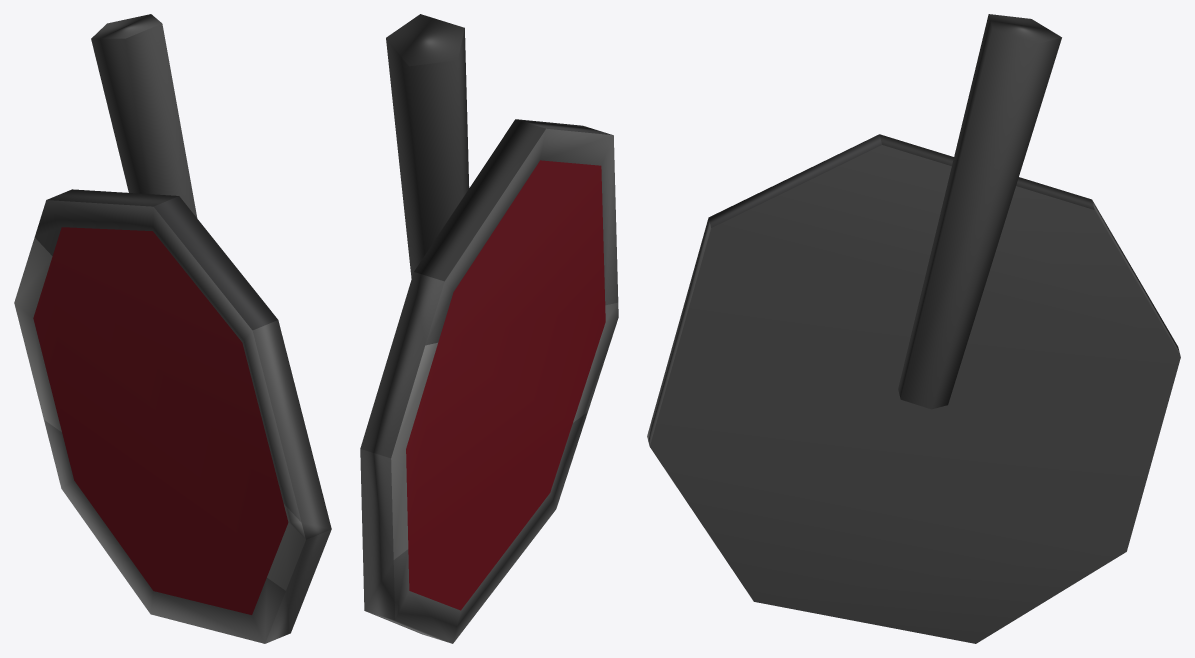
The model's file is trafficSign.fbx.
3 renders of one model, left to right at view 1: azimuth 30°, elevation 25°; view 2: azimuth 150°, elevation 25°; view 3: azimuth 270°, elevation 25°, orthographic. The views are drawn at different scales.
Parts seen in each view (by area): view 1: trafficSign:trafficSign; view 2: trafficSign:trafficSign; view 3: trafficSign:trafficSign.
Part boxes in pixels (<box>): trafficSign:trafficSign: <box>14,14,331,643</box>; trafficSign:trafficSign: <box>360,14,618,643</box>; trafficSign:trafficSign: <box>647,14,1180,643</box>.
Bounding box in the file's own units: 7.3 × 41.12 × 32.37.
